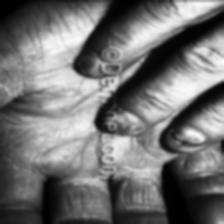Toxin: (172, 124, 206, 150)
